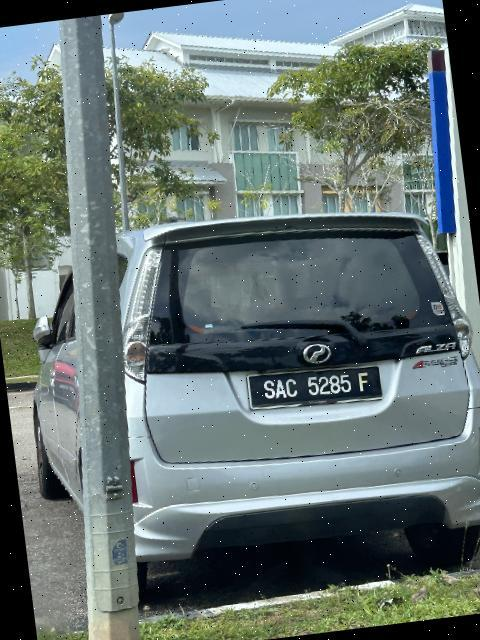License_Plate: (246, 361, 385, 414)
SAC5285F: (246, 361, 385, 414)
car: (8, 190, 480, 615)
